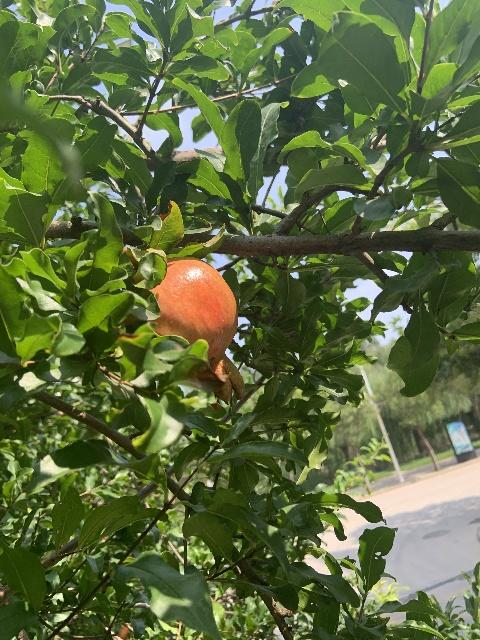ripe: (148, 256, 244, 400)
